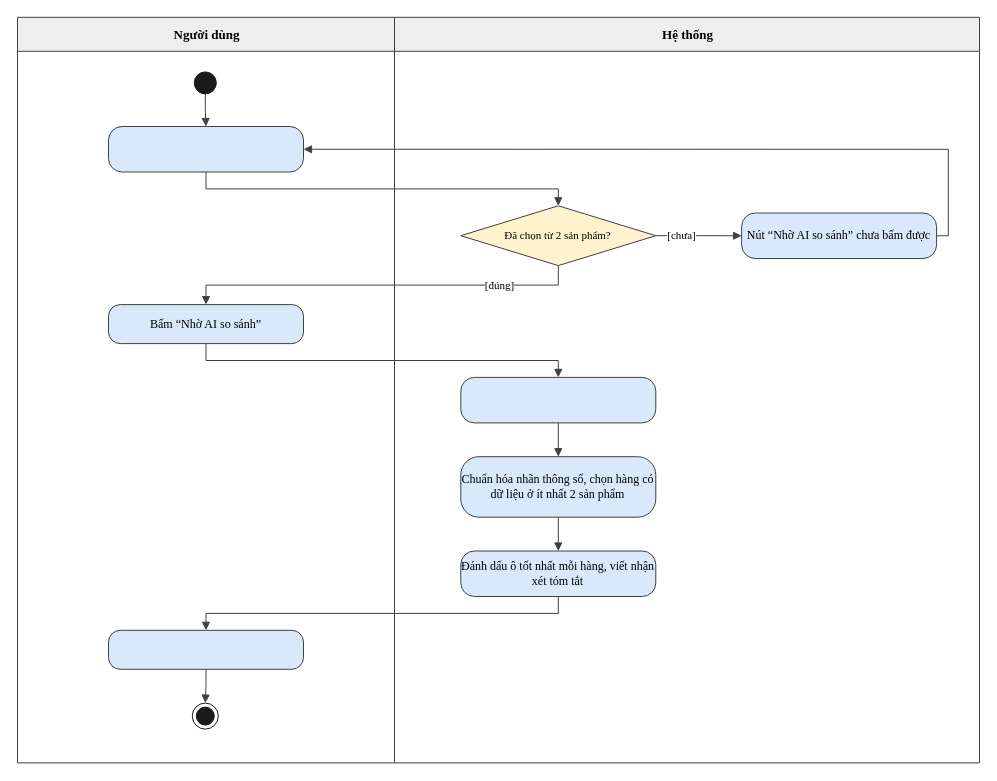
Image size: 997x781. Some labels were removed from this diagram. The shapes that lost their labels are listed below. From the top down, each one's centre as x and y in pixels, then its label:
At pixel 206 149: "Đánh dấu các sản phẩm ở màn Sản phẩm đã lưu".
At pixel 558 399: "Mở hội thoại mới, gửi danh sách sản phẩm (không cào lại)".
At pixel 206 649: "Xem bảng so sánh trong khung chat".
